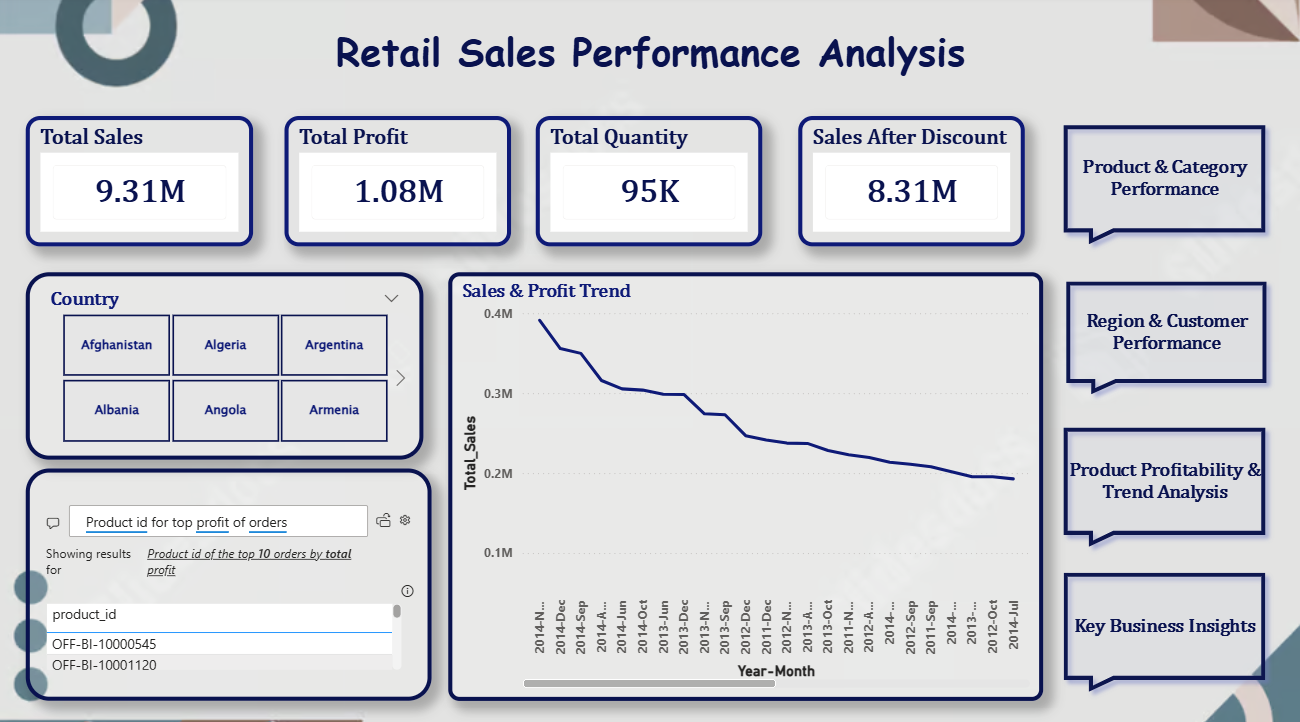

What the dashboard file says about the page in this screenshot:
{"tool":"powerbi","page":{"name":"Executive Summary","canvas":[1280,720],"ordinal":0},"visuals":[{"type":"textbox","box":[28.8,23.3,1226.8,81],"z":0},{"type":"cardVisual","title":"Total Sales","fields":{"Data":["Orders.Total_Sales"]},"box":[28.2,117.8,223.3,127.6],"z":1000},{"type":"cardVisual","title":"Total Quantity","fields":{"Data":["Orders.Total_Quantity"]},"box":[528.8,117.8,222.1,127.6],"z":2000},{"type":"cardVisual","title":"Total Profit","fields":{"Data":["Orders.Total_Profit"]},"box":[282.2,117.8,222.1,127.6],"z":3000},{"type":"cardVisual","title":"Sales After Discount","fields":{"Data":["Orders.Sales_After_Discount","Orders.Sales_After_Discount"]},"box":[786.5,117.8,222.1,127.6],"z":4000},{"type":"lineChart","title":"Sales & Profit Trend","fields":{"Category":["DateTable.Year-Month"],"Y":["Orders.Total_Sales"]},"box":[442.9,271.2,584.1,420.9],"z":5000},{"type":"slicer","fields":{"Values":["Orders.country"]},"box":[28.2,271.2,390.2,184.1],"z":6000},{"type":"shape","box":[1038,117.8,216,135],"z":7000},{"type":"shape","box":[1040.5,271.2,214.7,128.8],"z":8000},{"type":"shape","box":[1038,414.7,216,135],"z":9000},{"type":"qnaVisual","box":[28.2,463.8,398.8,228.2],"z":10000},{"type":"shape","box":[1038,557.1,216,135],"z":11000}]}

Visuals, with their boxes in screenshot pixels (x1, y1, x2, y2), scaled from the page's 1280x720 canvas onto the 1300x722 screenshot:
textbox: Rect(29, 23, 1275, 105)
"Total Sales" cardVisual: Rect(29, 118, 255, 246)
"Total Quantity" cardVisual: Rect(537, 118, 763, 246)
"Total Profit" cardVisual: Rect(287, 118, 512, 246)
"Sales After Discount" cardVisual: Rect(799, 118, 1024, 246)
"Sales & Profit Trend" lineChart: Rect(450, 272, 1043, 694)
slicer - Orders.country: Rect(29, 272, 425, 457)
shape: Rect(1054, 118, 1274, 254)
shape: Rect(1057, 272, 1275, 401)
shape: Rect(1054, 416, 1274, 551)
qnaVisual: Rect(29, 465, 434, 694)
shape: Rect(1054, 559, 1274, 694)
